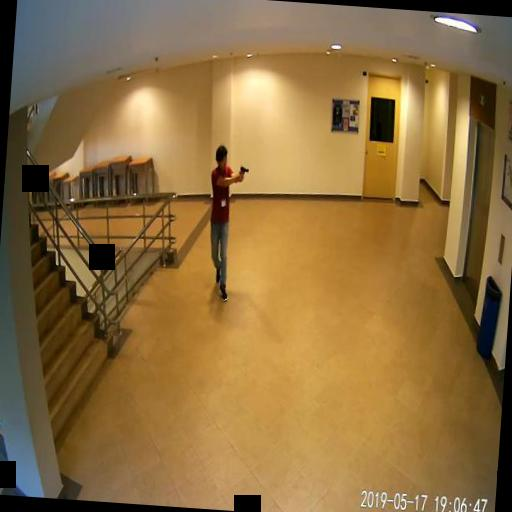Handgun: (238, 164, 248, 178)
